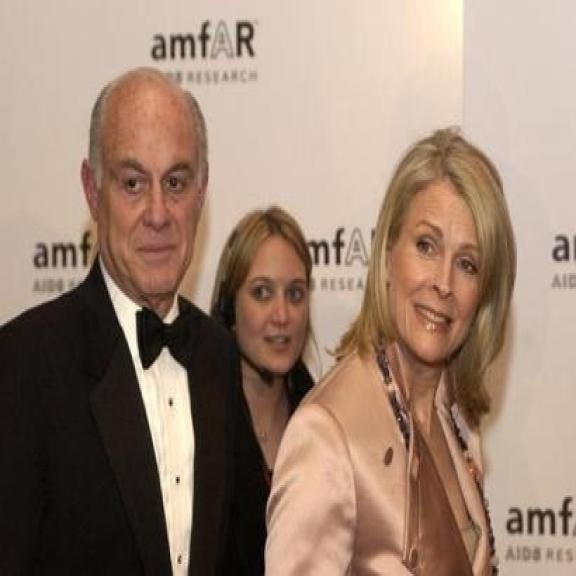face: (376, 130, 500, 380), (79, 68, 211, 300), (222, 208, 314, 372)
